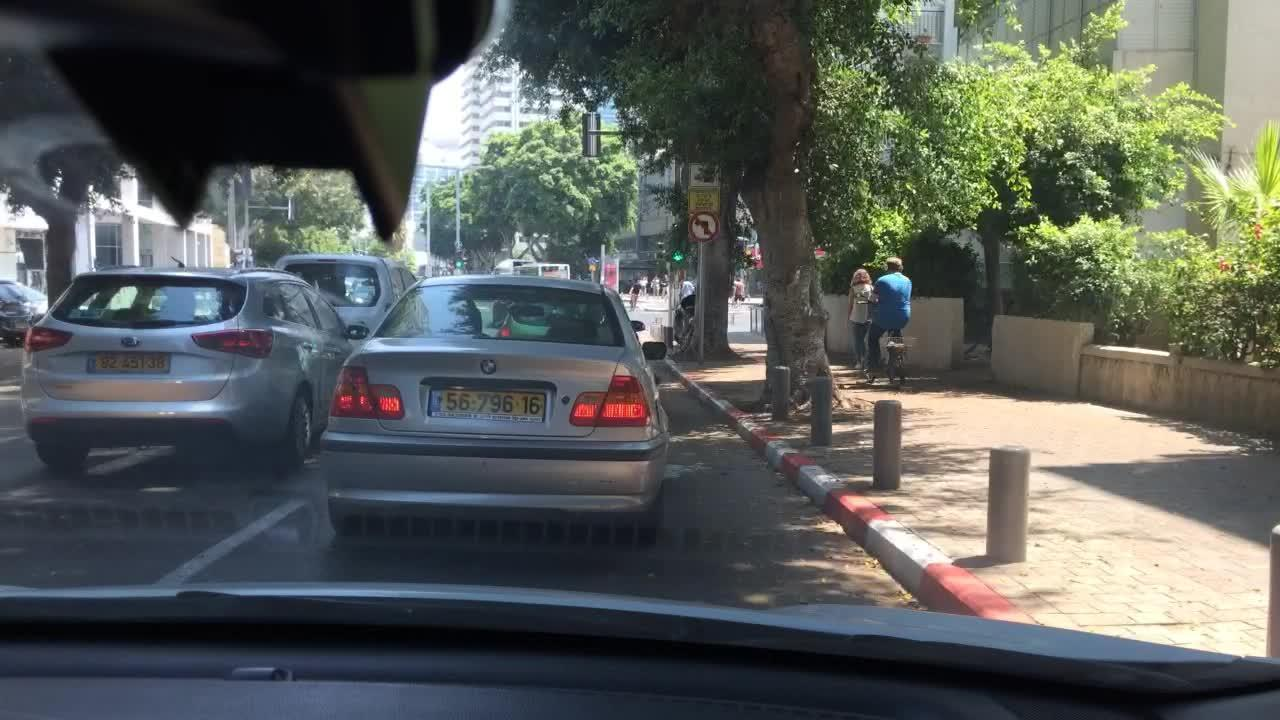bmw: (465, 350, 510, 381), (108, 330, 152, 355)
